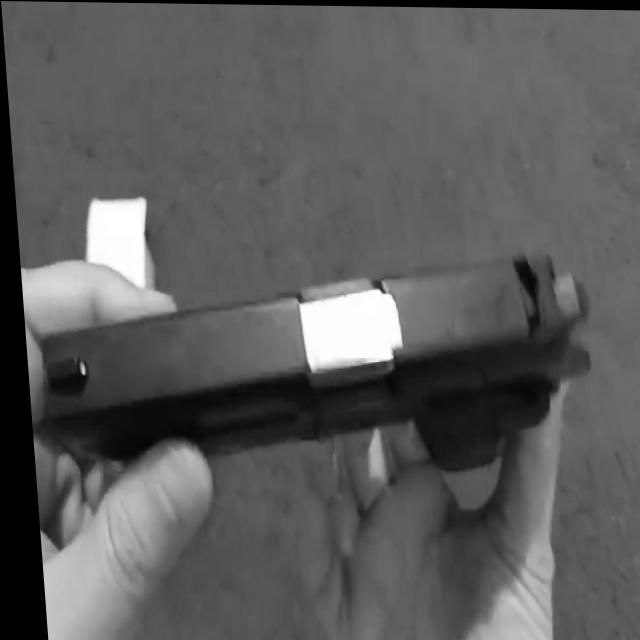handgun: (13, 206, 605, 513)
